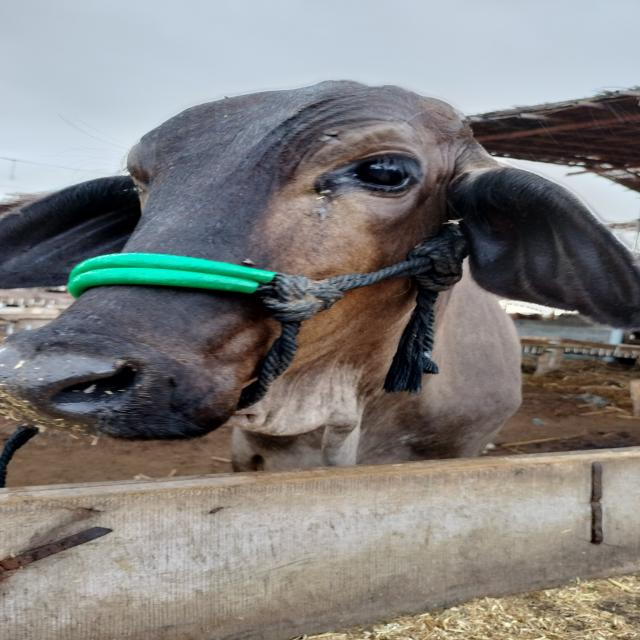muzzles: (0, 326, 156, 446)
